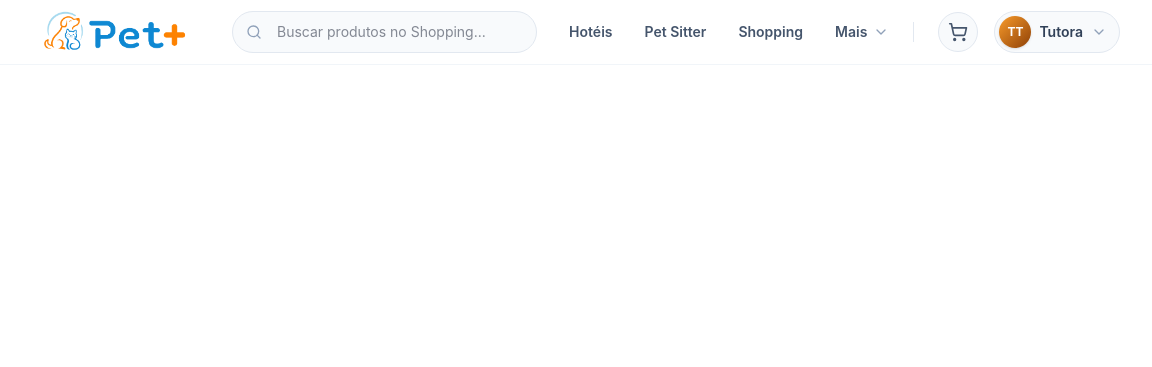
it: Tutor mantém o menu próprio, sem status de parceiro
Click the button with aria-label "Menu da conta de Tutora Teste": (1057, 32) [994,11,1120,53]
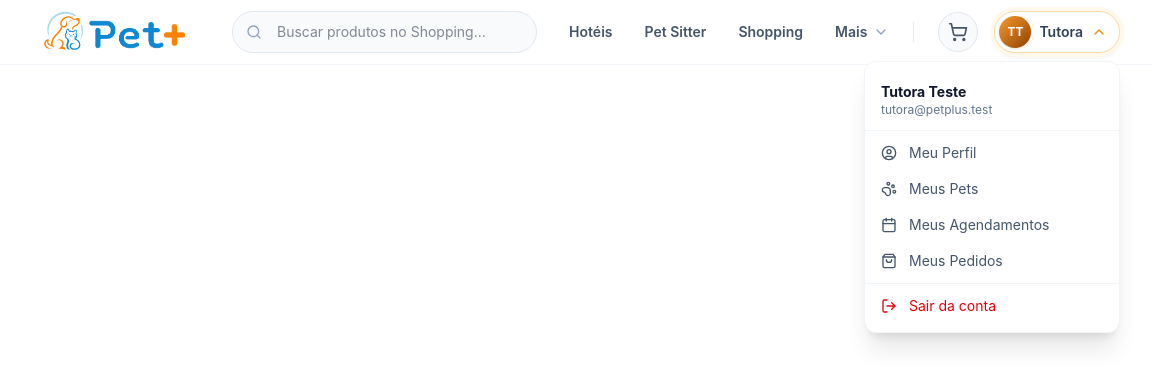
Expected: the link "Meus Pets" is shown, [881,180,978,197]
